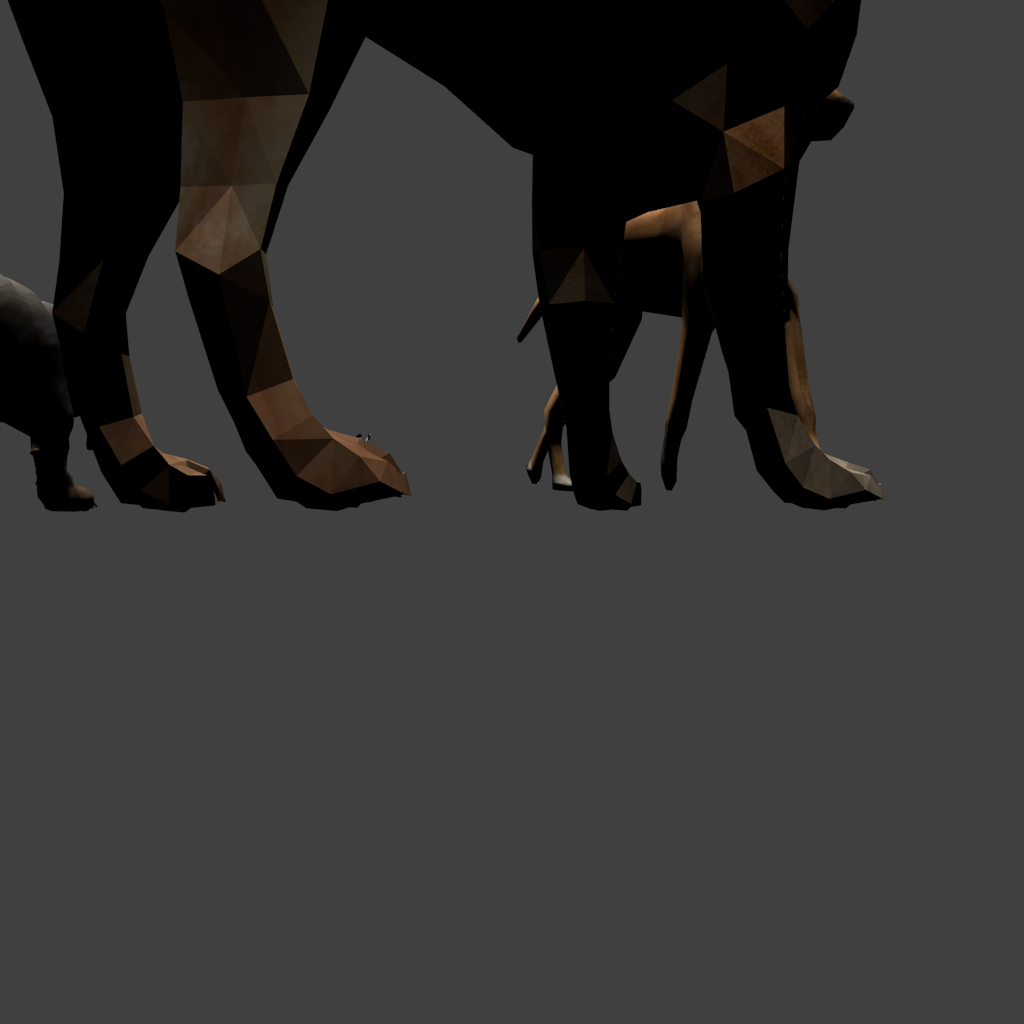Dog: (0, 0, 933, 513), (0, 235, 97, 277)
